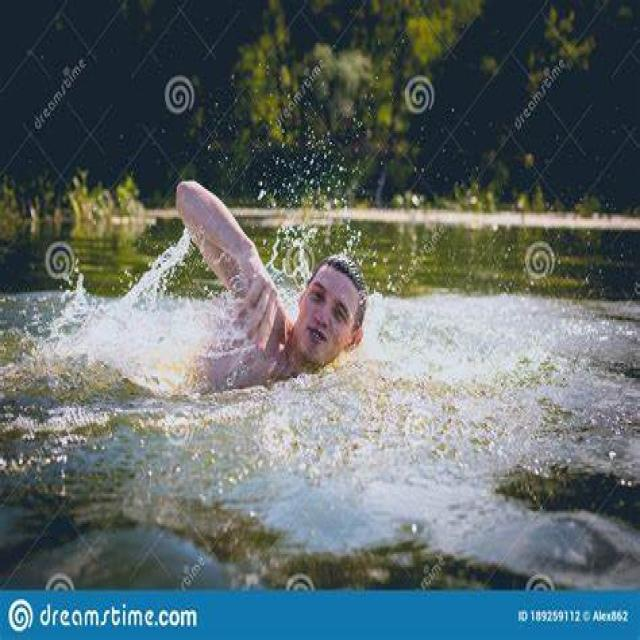swimming: (141, 162, 405, 427)
